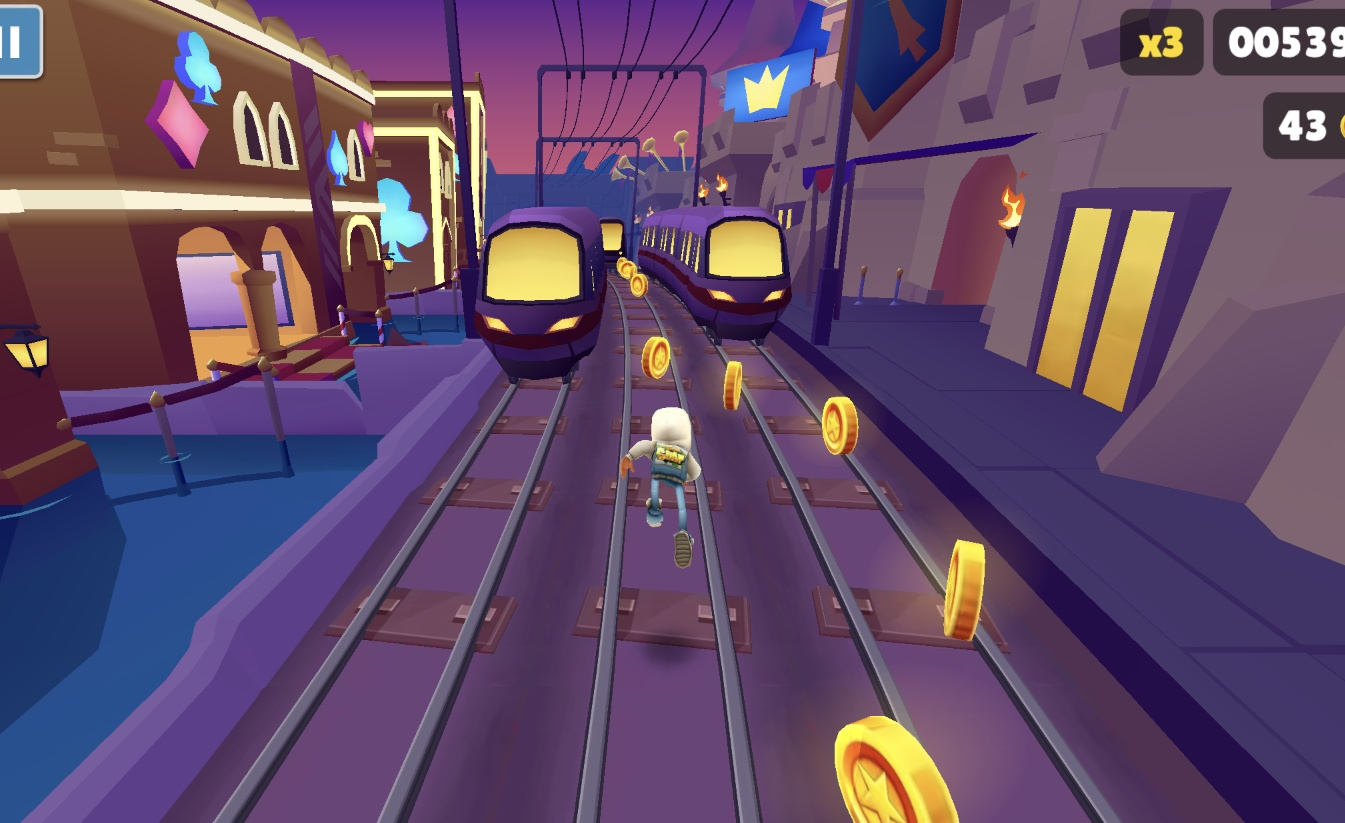train: (467, 206, 607, 386), (640, 205, 795, 345), (598, 217, 630, 274)
